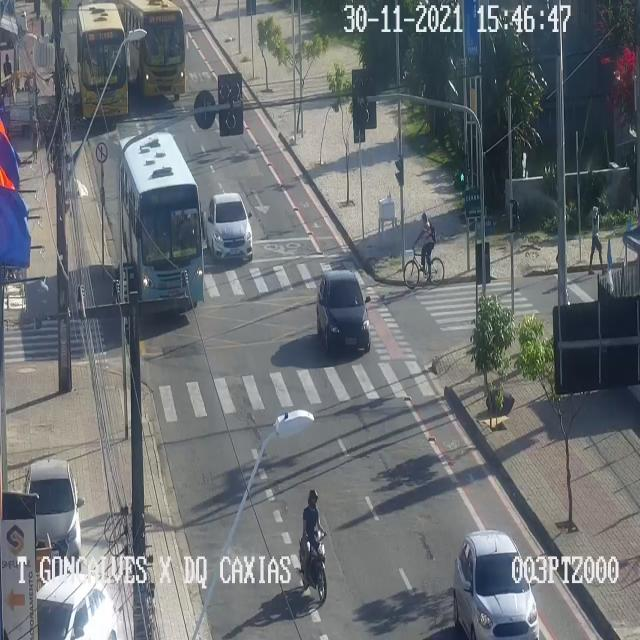Bus: (117, 132, 203, 306), (76, 2, 128, 118), (130, 0, 186, 103)
Car: (453, 530, 539, 639), (24, 460, 80, 570), (37, 573, 117, 639), (316, 271, 370, 350), (206, 192, 252, 260)
Motorcycle: (298, 488, 326, 601)
